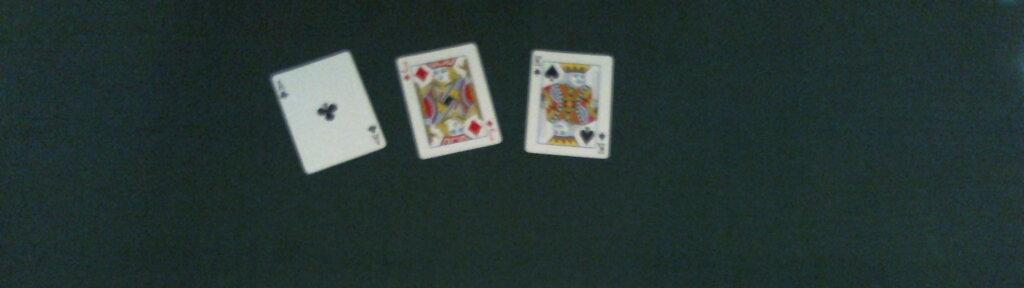ace: (270, 50, 388, 174)
jack: (394, 40, 503, 160)
king: (524, 49, 614, 159)
